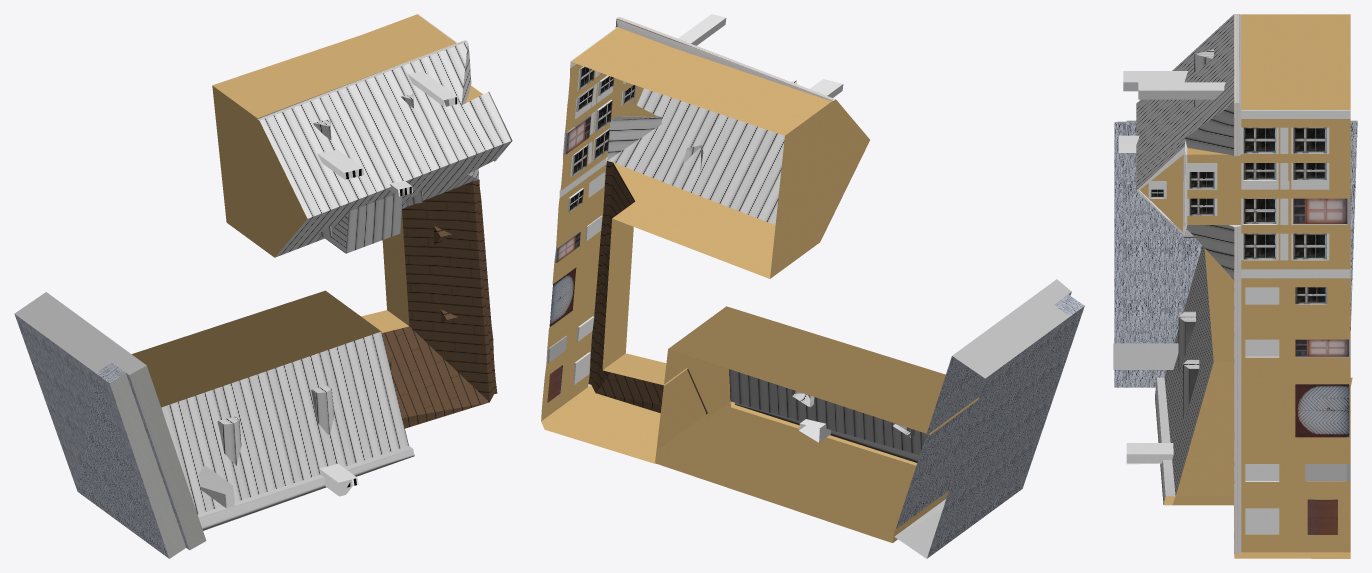
The model's file is Uus_11-origo.obj.
The picture shows the model from 3 angles, left to right: view 1: azimuth 30°, elevation 25°; view 2: azimuth 150°, elevation 25°; view 3: azimuth 270°, elevation 25°; orthographic projection. The views are drawn at different scales.
Parts seen in each view (by area): view 1: uus11, xxx_u11; view 2: uus11, xxx_u11; view 3: uus11.
Part boxes in pixels (x1,y1,x2,y2): uus11: (14, 14, 512, 558); xxx_u11: (14, 292, 146, 374); uus11: (541, 14, 1084, 558); xxx_u11: (894, 279, 1071, 558); uus11: (1113, 14, 1357, 558).
Bounding box in the file's own units: 32.12 × 28.5 × 13.01.
